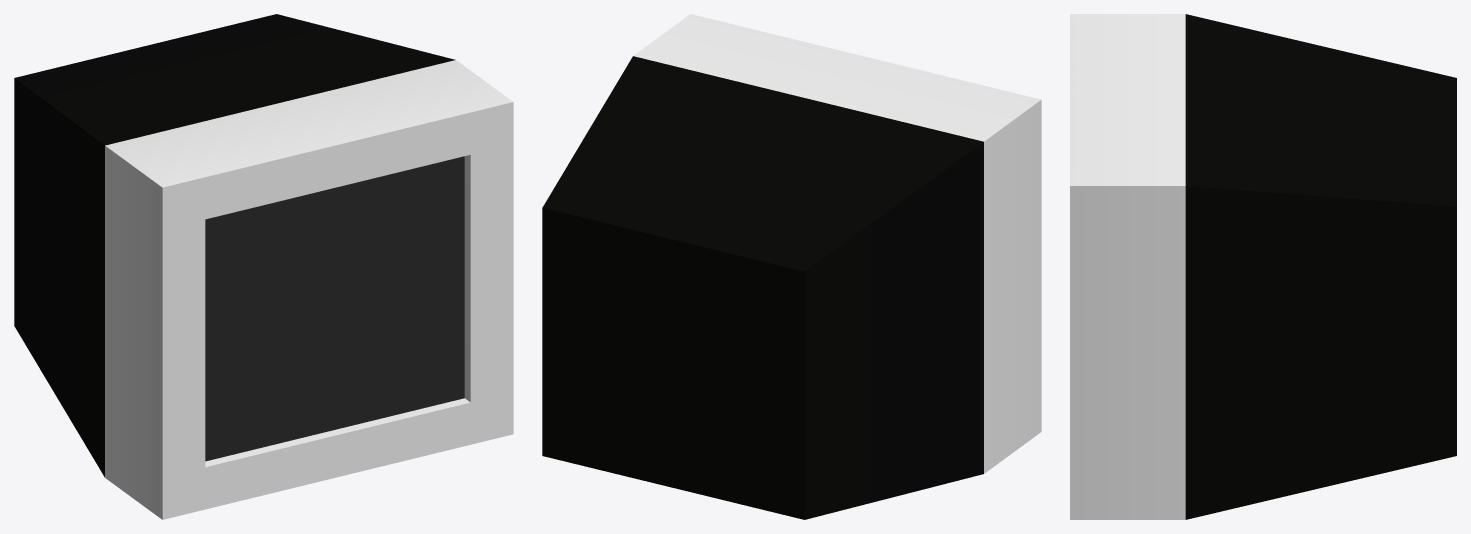
The model's file is Itr_Obj_Monitor_CRT_Screen_Off_01.FBX.
3 views of the same model, side by side, from view 1: azimuth 30°, elevation 25°; view 2: azimuth 150°, elevation 25°; view 3: azimuth 270°, elevation 25° (orthographic).
Visible parts, largest first — view 1: Itr_Obj_Monitor_CRT_Screen_Off_01; view 2: Itr_Obj_Monitor_CRT_Screen_Off_01; view 3: Itr_Obj_Monitor_CRT_Screen_Off_01.
Boxes of the visible parts, x1=… form: Itr_Obj_Monitor_CRT_Screen_Off_01: x1=14, y1=14, x2=513, y2=519; Itr_Obj_Monitor_CRT_Screen_Off_01: x1=542, y1=14, x2=1041, y2=519; Itr_Obj_Monitor_CRT_Screen_Off_01: x1=1070, y1=14, x2=1456, y2=519.
Size of the model in its own units: 20.38 by 18.44 by 19.36.
